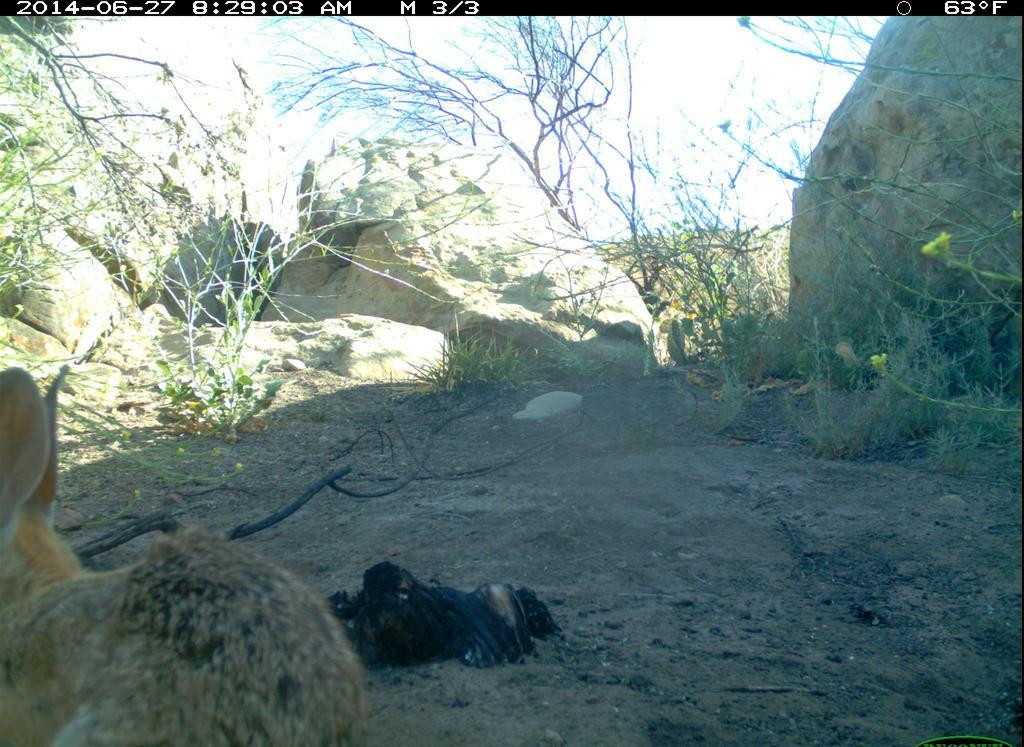rabbit: (3, 364, 379, 747)
